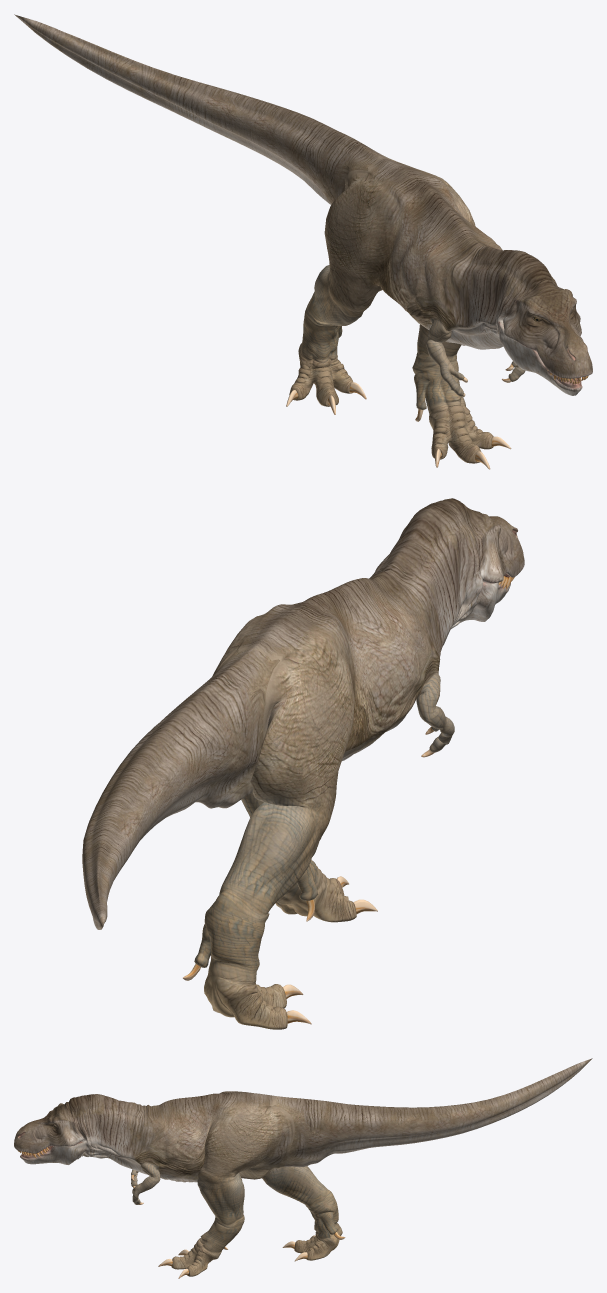
File: TRex.glb
3 views of the same model, one above another, from view 1: azimuth 30°, elevation 25°; view 2: azimuth 150°, elevation 25°; view 3: azimuth 270°, elevation 25° (orthographic). The views are drawn at different scales.
Visible parts, largest first — view 1: trexGeoGrp; view 2: trexGeoGrp; view 3: trexGeoGrp.
Part boxes in pixels (x1,y1,x2,y2): trexGeoGrp: (14,14,592,469); trexGeoGrp: (82,498,524,1029); trexGeoGrp: (14,1058,592,1278).
Size of the model in its own units: 6.09 by 8.26 by 25.6.
6 materials, 4 textured.
